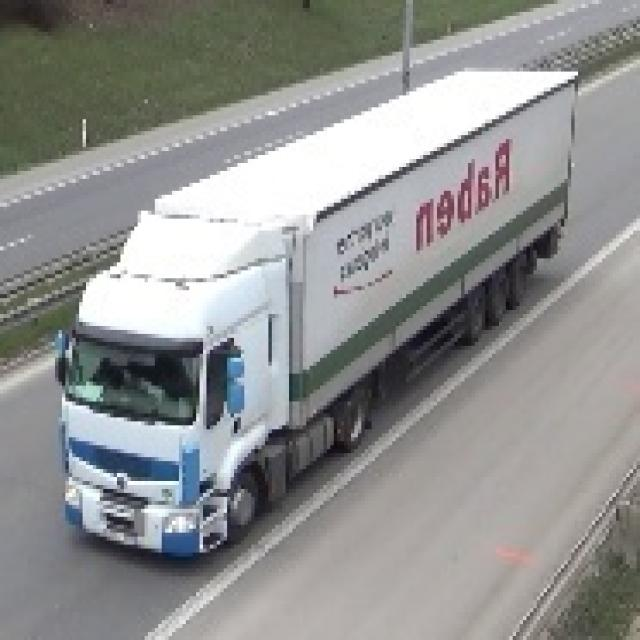TRUCK: (45, 67, 572, 570)
